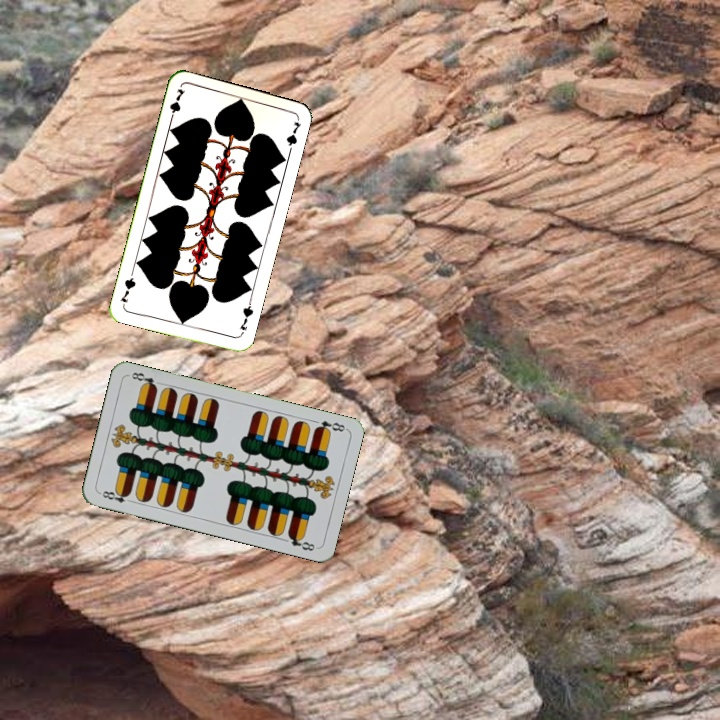E8: (96, 486, 136, 506), (311, 416, 348, 436)
G7: (165, 85, 187, 124), (235, 298, 256, 338)
